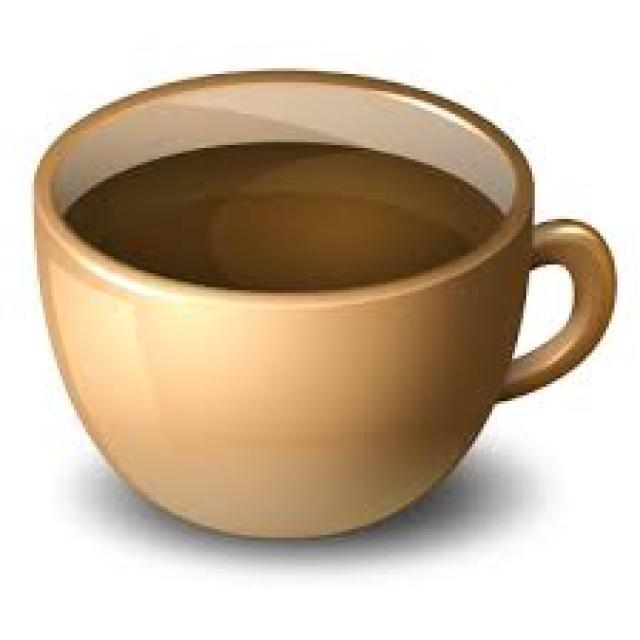taza: (21, 59, 629, 554)
